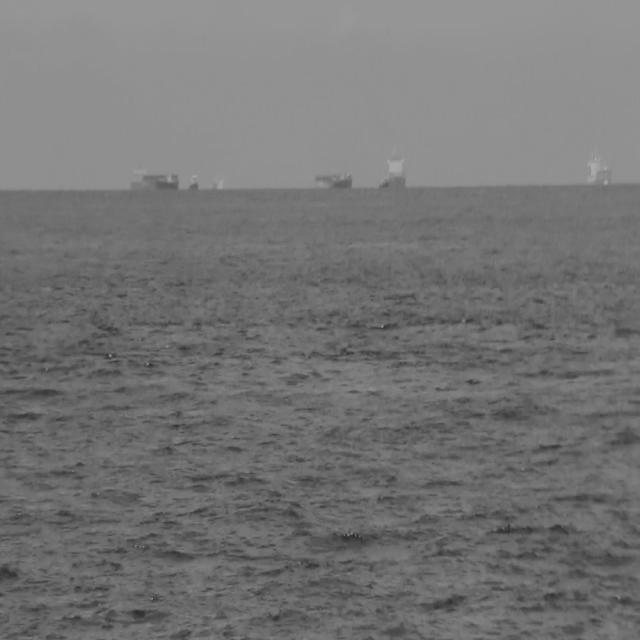ship: (377, 148, 408, 194), (130, 166, 180, 193), (586, 144, 612, 189), (314, 172, 354, 192), (188, 174, 202, 194)
